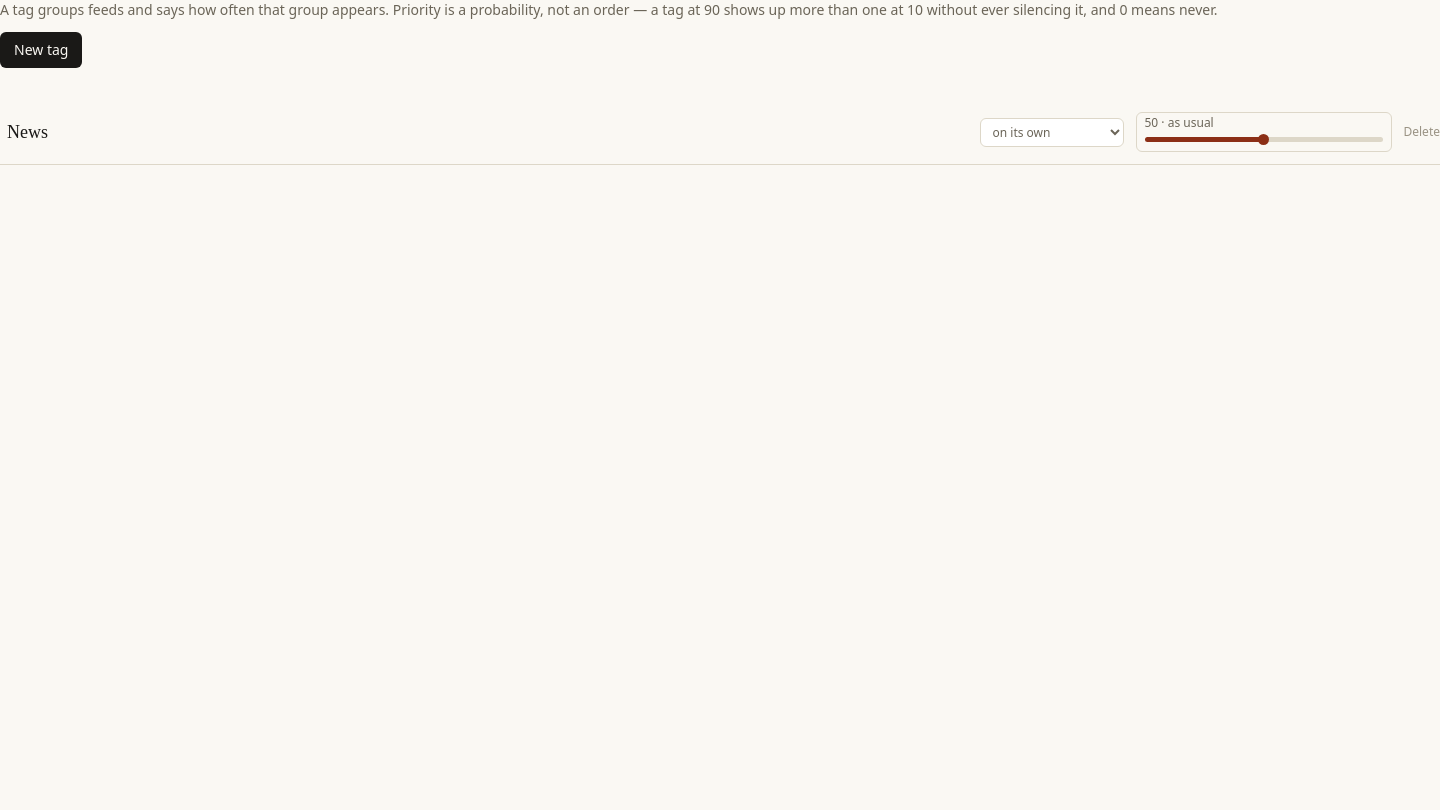
Test: TagsPage › asks all three things before anything is written
Click the button "New tag" at [41, 50], box [0,32,82,68]
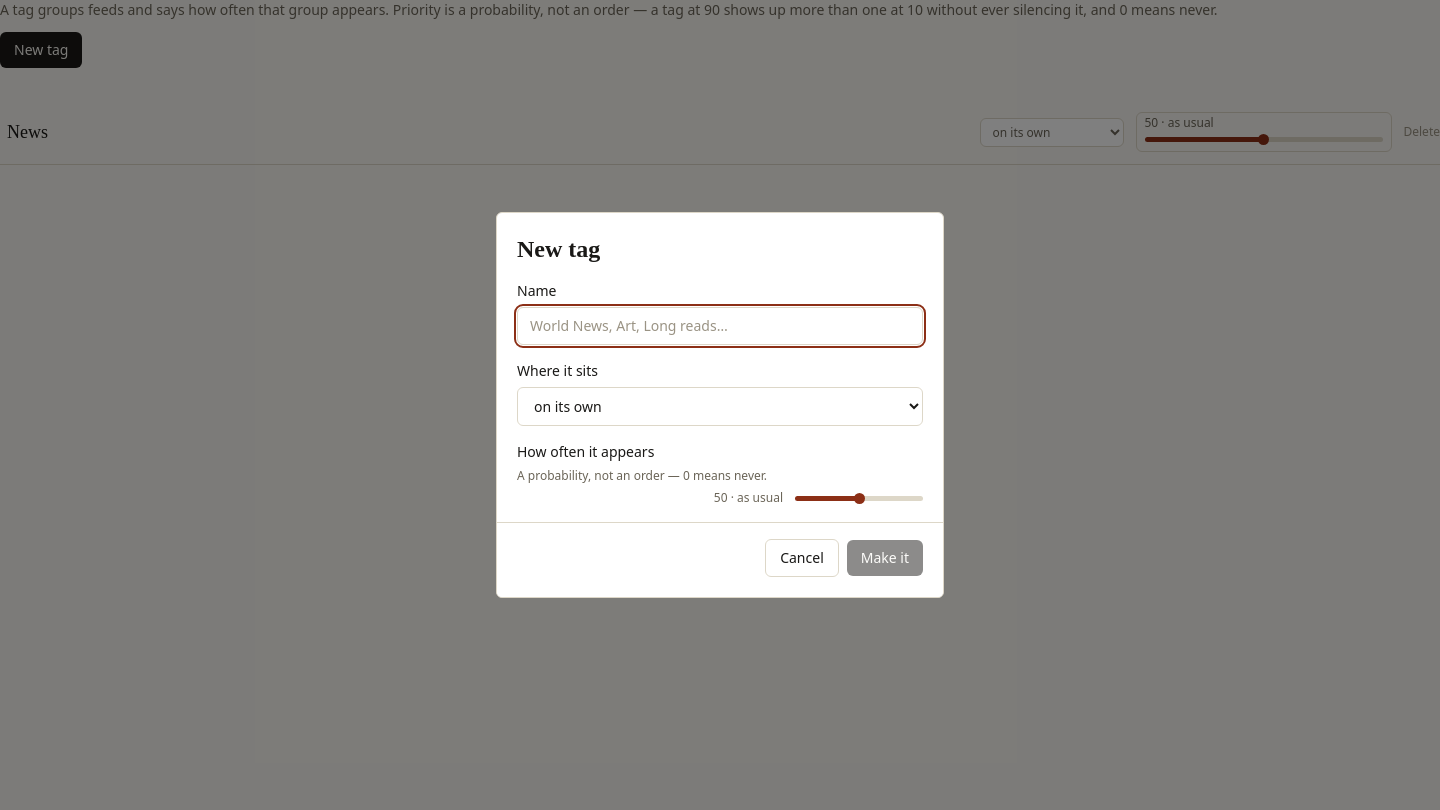
Expected: the field labelled "Name" is shown, [517,307,923,345]
Expected: the dropdown labelled "Where it sits" is shown, [517,387,923,426]
Expected: the slider named "How often it appears" is shown, [795,490,923,506]
